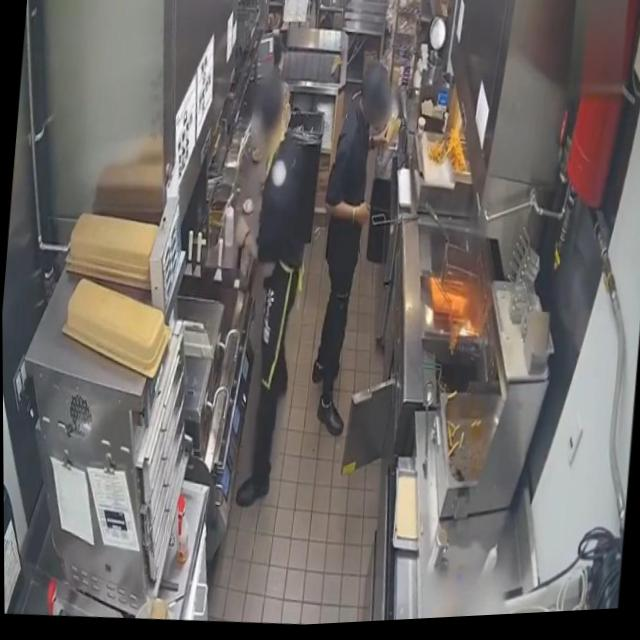fire: (456, 318, 476, 343)
